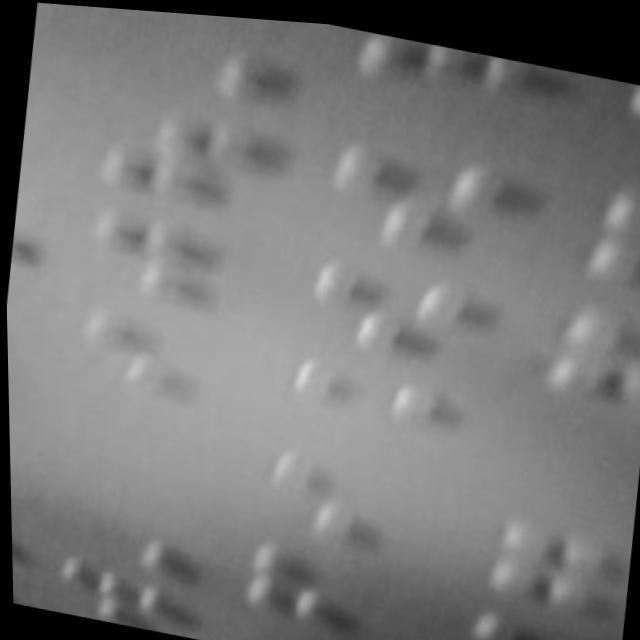braiile: (320, 130, 516, 257), (257, 438, 457, 562), (87, 90, 281, 217), (277, 353, 464, 476), (300, 245, 484, 366), (234, 531, 428, 640), (78, 203, 254, 316), (68, 299, 237, 411), (347, 22, 522, 127), (480, 504, 631, 617), (543, 289, 640, 406), (574, 166, 640, 287), (453, 594, 620, 640), (603, 68, 640, 165)
